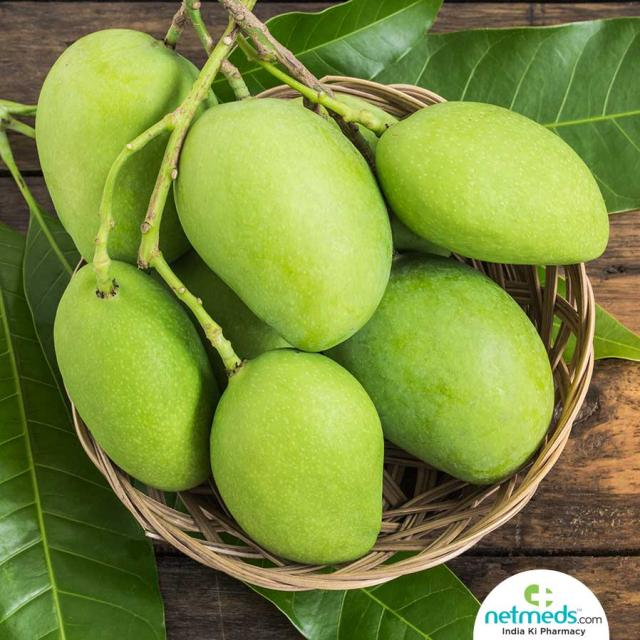mango: (179, 100, 394, 340), (364, 258, 564, 500), (56, 260, 232, 517), (364, 98, 611, 270), (212, 362, 389, 563), (32, 22, 182, 246)
